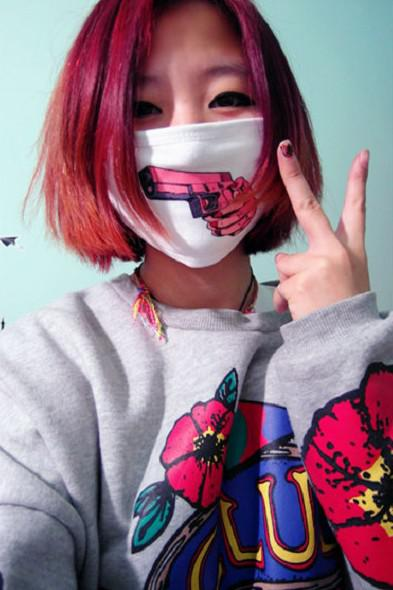OK: (97, 62, 286, 267)
